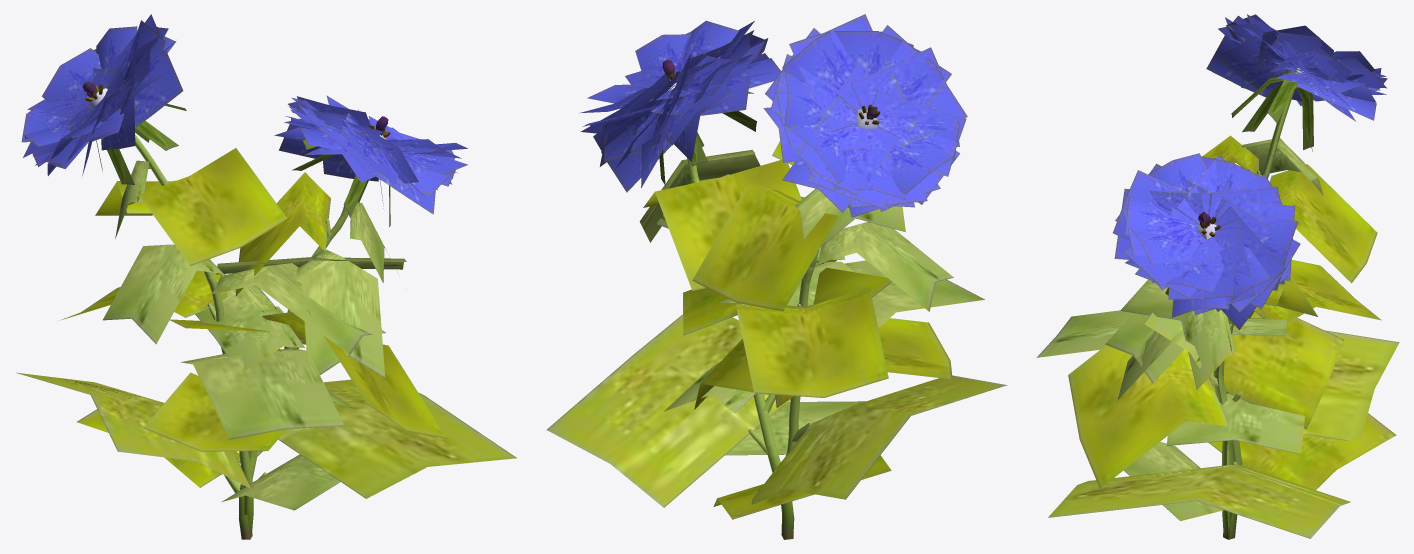
Rendered from blue_flower1.FBX.
The picture shows the model from 3 angles, left to right: view 1: azimuth 30°, elevation 25°; view 2: azimuth 150°, elevation 25°; view 3: azimuth 270°, elevation 25°; orthographic projection. The views are drawn at different scales.
Visible parts, largest first — view 1: Small_Bl002; view 2: Small_Bl002; view 3: Small_Bl002.
Boxes of the visible parts, box(x1,y1,x2,y2) form: Small_Bl002: box(16, 14, 516, 539); Small_Bl002: box(546, 14, 1007, 539); Small_Bl002: box(1036, 14, 1399, 539).
Bounding box in the file's own units: 0.2106 × 0.2731 × 0.185.
